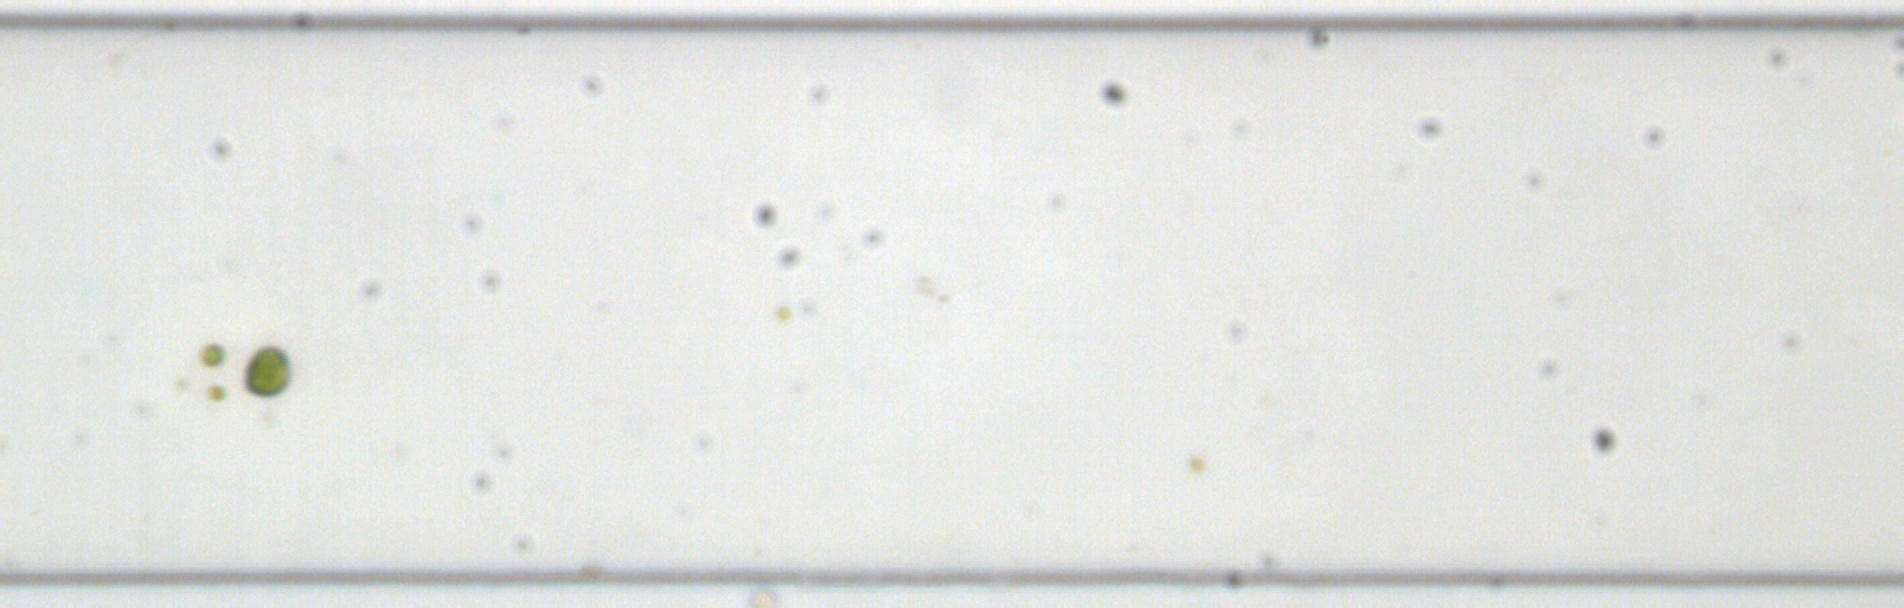Chlorella: (198, 343, 226, 366), (773, 302, 793, 320), (206, 383, 225, 400), (1188, 454, 1205, 472)
Platymonas: (240, 343, 297, 397)
